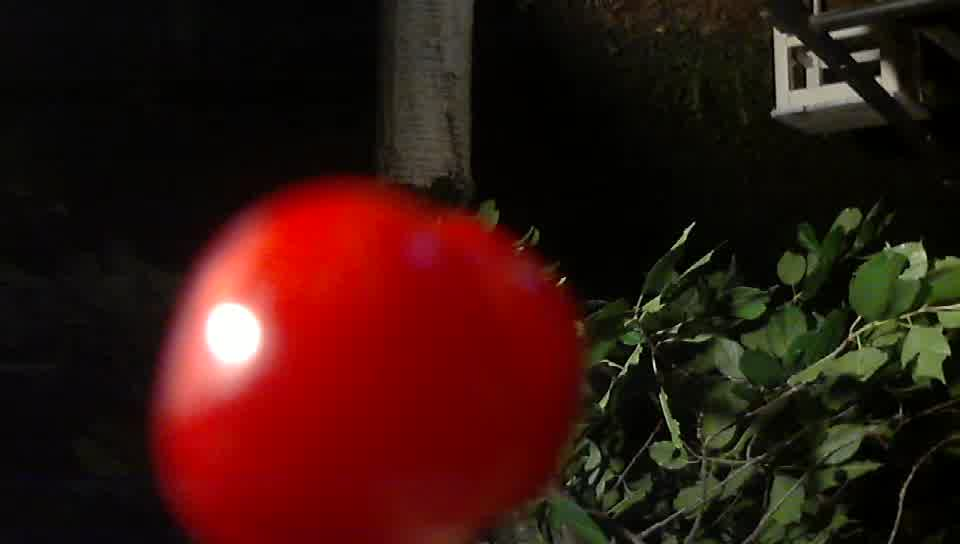Cherry: (114, 148, 635, 544)
